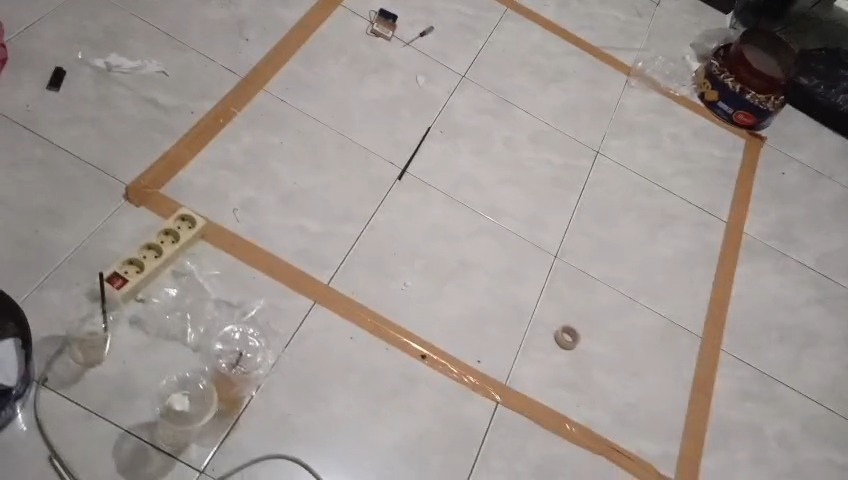floor marking: (204, 222, 672, 479), (643, 75, 766, 479), (127, 0, 340, 216), (497, 0, 639, 76)
